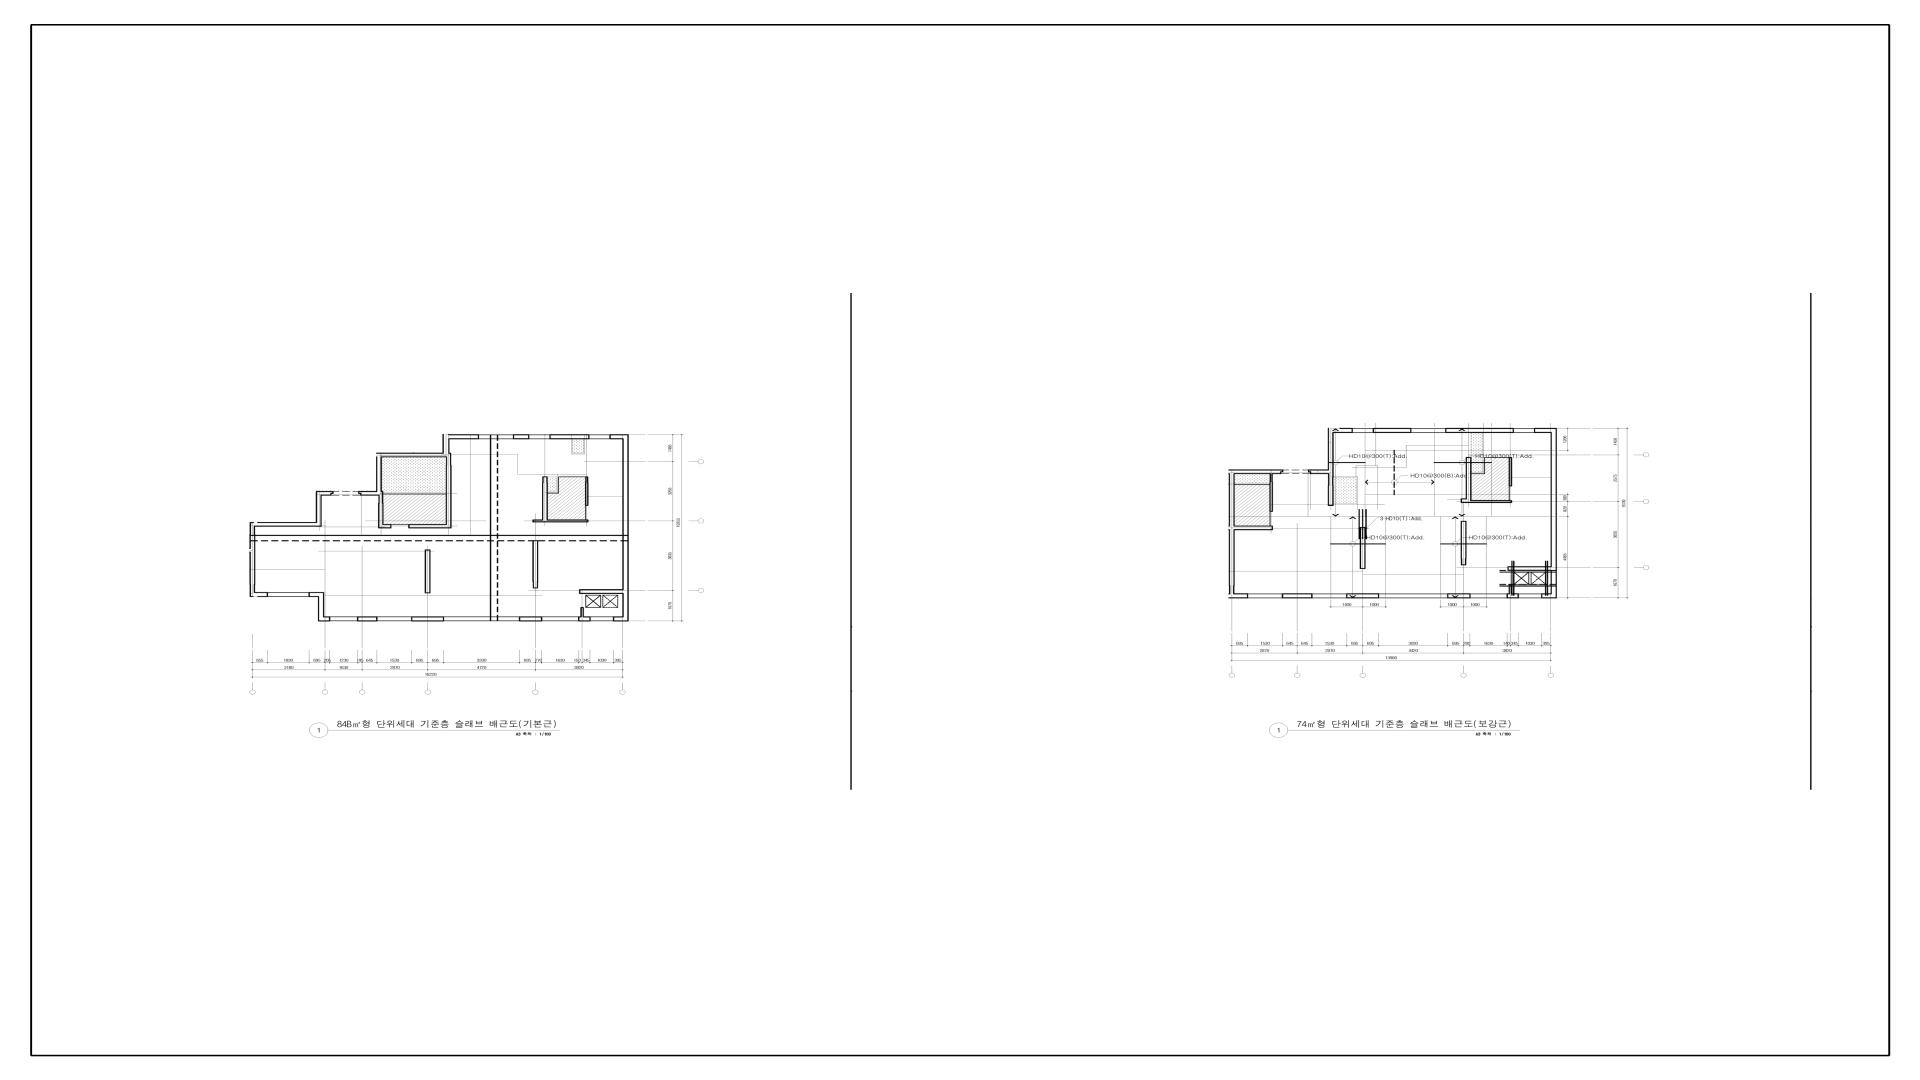wall: (622, 439, 629, 589), (1551, 433, 1557, 571), (250, 522, 322, 527), (446, 465, 452, 524), (1445, 428, 1514, 433), (1328, 428, 1334, 485), (1229, 530, 1235, 586), (250, 527, 255, 592), (1229, 474, 1235, 526), (382, 453, 451, 457), (425, 550, 431, 593), (1360, 527, 1366, 569), (579, 589, 629, 594), (1466, 457, 1472, 498), (533, 540, 538, 588), (1235, 469, 1283, 474), (542, 483, 548, 522), (376, 453, 382, 491), (1461, 521, 1467, 559), (1508, 566, 1551, 571), (550, 434, 590, 439), (1373, 428, 1411, 433), (1282, 593, 1313, 599), (409, 524, 452, 528), (411, 617, 444, 622), (1346, 593, 1379, 598), (316, 496, 322, 522), (622, 594, 629, 616), (1235, 526, 1273, 530), (449, 434, 479, 439), (519, 616, 542, 622), (443, 434, 450, 453), (1551, 571, 1557, 593), (378, 503, 384, 524), (1328, 485, 1334, 506), (358, 491, 383, 496), (1447, 593, 1471, 598), (1472, 500, 1512, 503), (1534, 428, 1557, 433), (318, 597, 324, 616), (357, 617, 378, 622), (613, 616, 629, 622), (610, 434, 629, 439), (1229, 593, 1248, 598), (1334, 428, 1353, 433), (585, 483, 589, 506), (316, 491, 334, 496), (250, 592, 268, 597), (1542, 593, 1557, 599), (1270, 482, 1273, 512), (1509, 457, 1512, 486), (513, 434, 529, 439), (548, 520, 588, 522), (1308, 470, 1328, 474), (578, 616, 591, 622), (309, 592, 324, 597), (318, 616, 330, 622), (378, 524, 391, 529), (1507, 593, 1519, 598), (1461, 498, 1472, 503), (542, 476, 548, 483), (1229, 586, 1235, 593), (580, 607, 584, 617), (446, 457, 451, 465), (1228, 469, 1235, 474), (1461, 559, 1466, 565), (379, 496, 383, 503), (1228, 526, 1235, 530), (1509, 584, 1512, 593), (1270, 474, 1273, 482), (585, 476, 588, 483), (533, 520, 542, 522)
